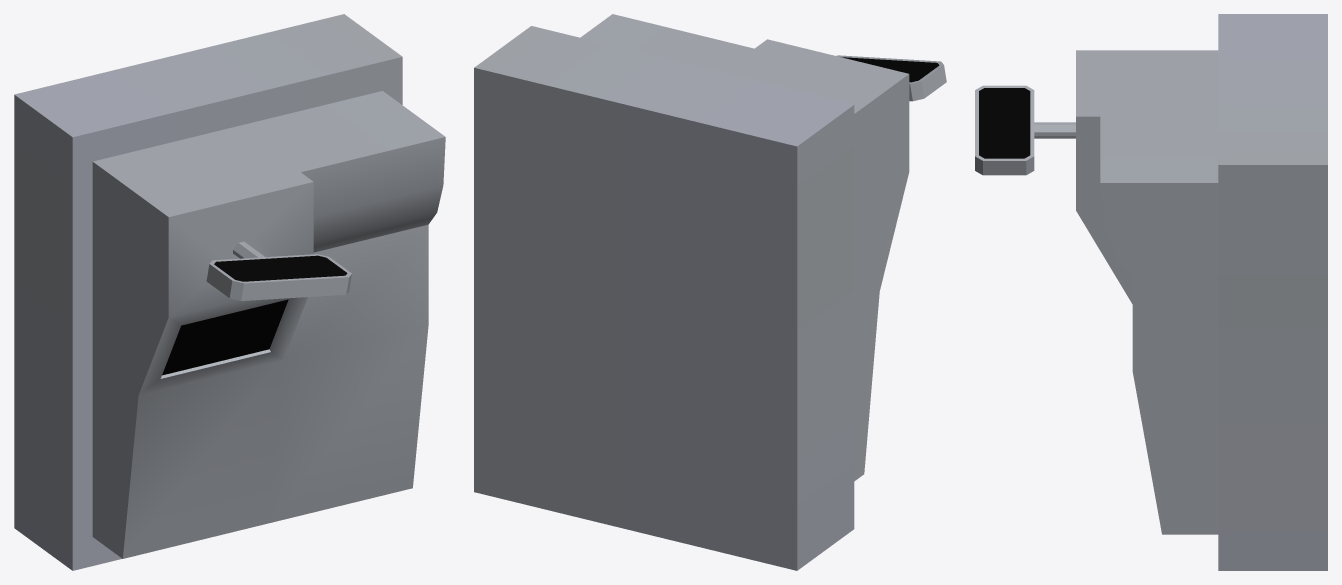
Rendered from cash-register-56302b.glb.
3 renders of one model, left to right at view 1: azimuth 30°, elevation 25°; view 2: azimuth 150°, elevation 25°; view 3: azimuth 270°, elevation 25°, orthographic. The views are drawn at different scales.
Visible parts, largest first — view 1: PropMesh; view 2: PropMesh; view 3: PropMesh.
Part boxes in pixels (x1,y1,x2,y2): PropMesh: (14, 14, 445, 570); PropMesh: (474, 14, 946, 570); PropMesh: (975, 14, 1327, 570).
Size of the model in its own units: 0.7168 by 0.9075 by 0.7088.
Materials: 1 (1 with a texture image).
